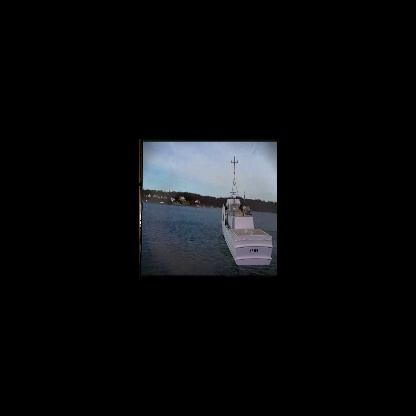YP689: (221, 157, 273, 265)
